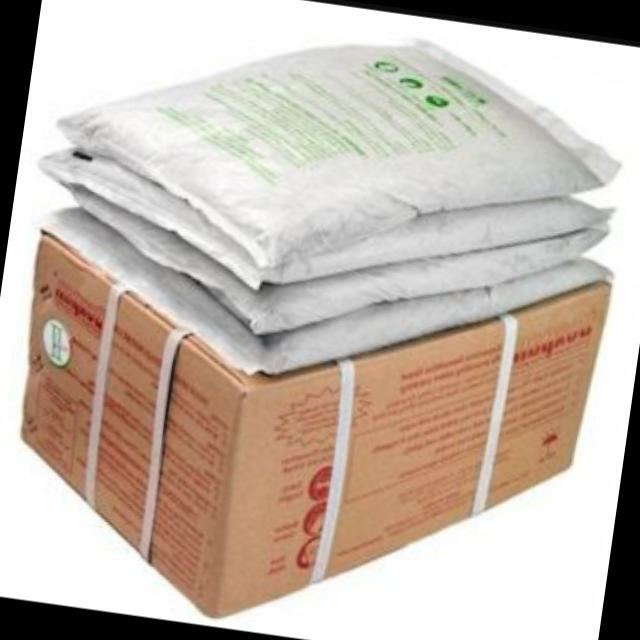KantongSemen: (8, 0, 640, 422)
